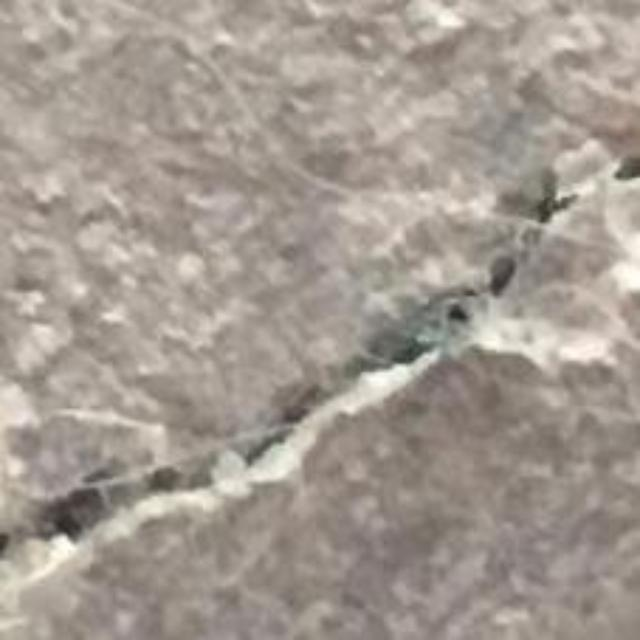crack: (235, 156, 639, 465)
